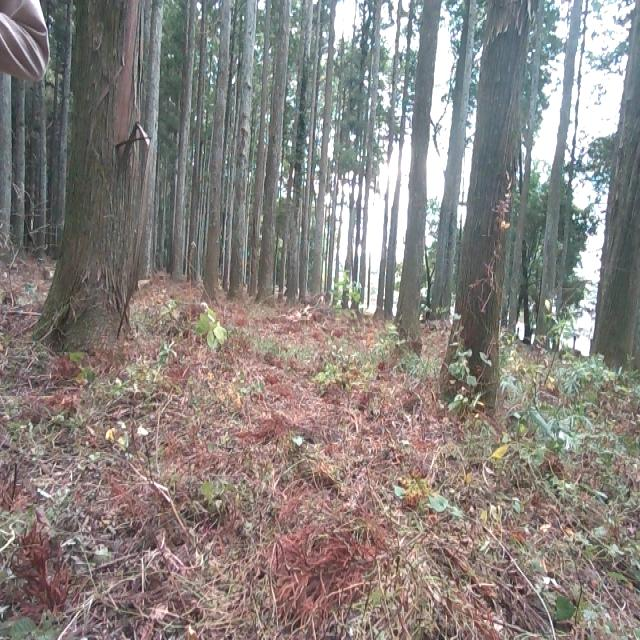tree: (423, 0, 549, 426), (57, 0, 141, 348), (592, 0, 640, 365)
